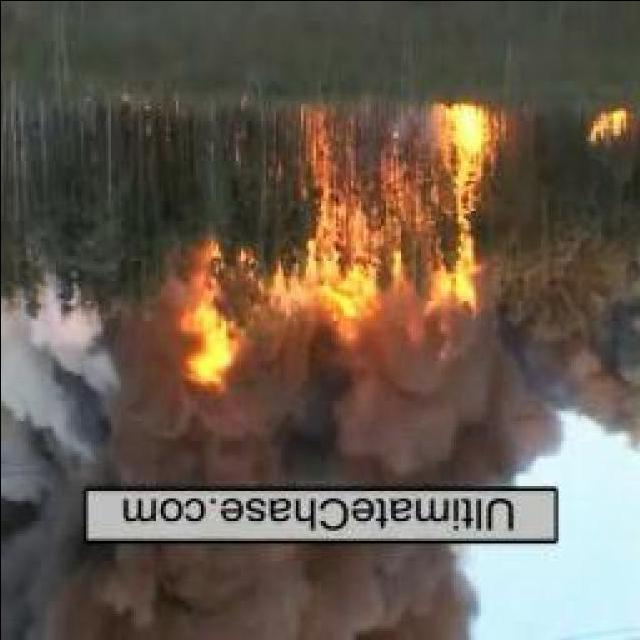Fire: (300, 96, 500, 327), (178, 248, 232, 399), (580, 108, 637, 148)
